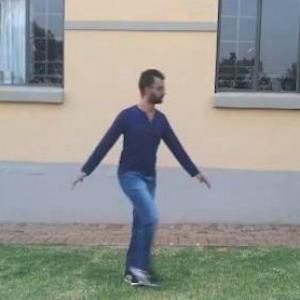land: (73, 81, 205, 255)
